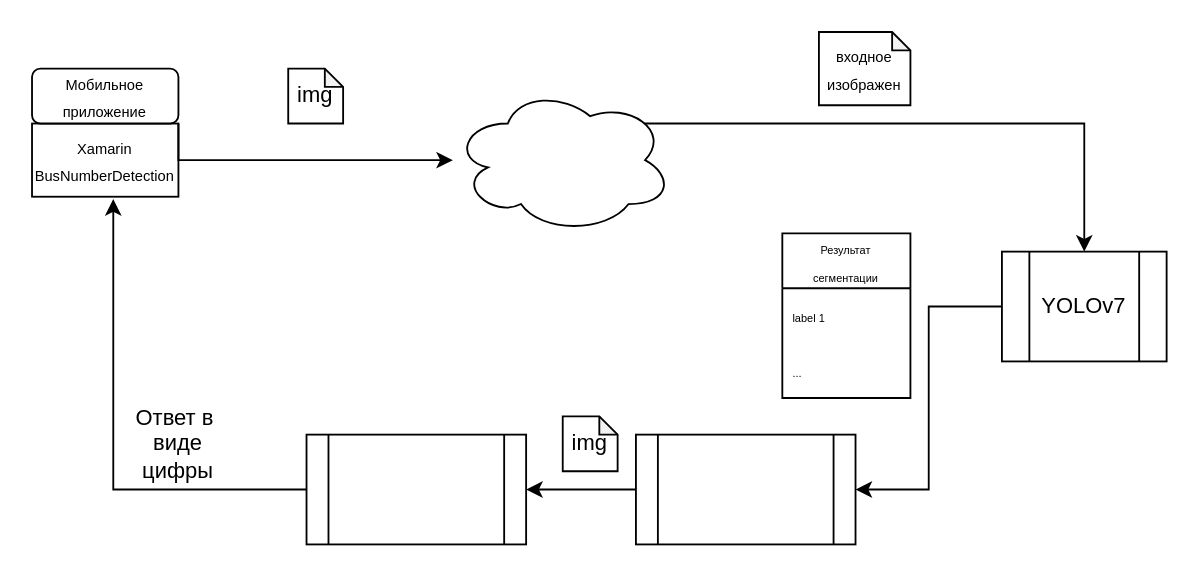
Image size: 1199x576. Some labels were removed from this diagram. Each missing label, with the box of its shape:
Flask API: (451, 85, 673, 233)
Обработка и распознавание чисел: (305, 433, 526, 544)
получение целевого изображения: (634, 433, 856, 544)
